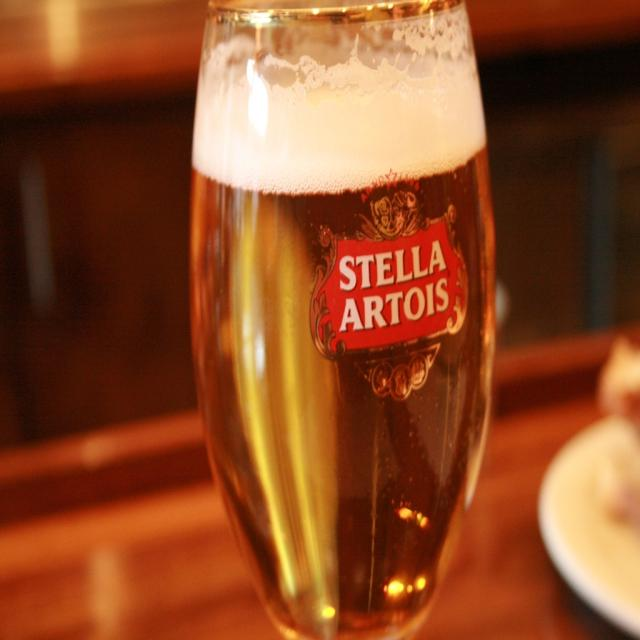stellaartois: (308, 167, 472, 403)
